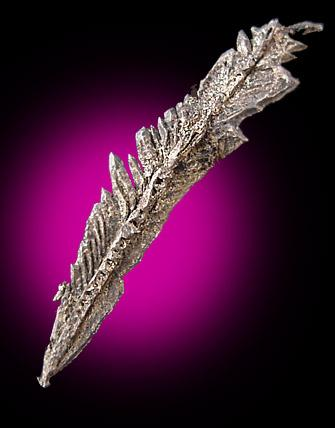silver: (39, 19, 325, 390)
